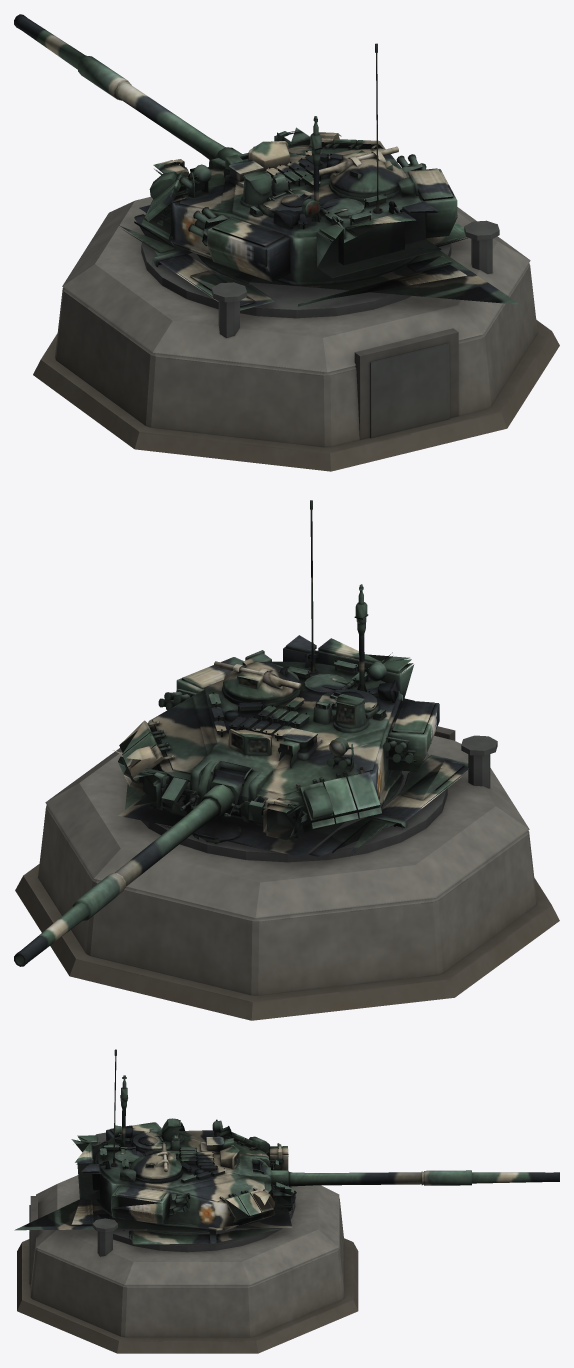
The model's file is gun.glb.
3 renders of one model, top to bottom at view 1: azimuth 30°, elevation 25°; view 2: azimuth 150°, elevation 25°; view 3: azimuth 270°, elevation 25°, orthographic. The views are drawn at different scales.
Parts seen in each view (by area): view 1: hull, turret, barrel; view 2: hull, turret, barrel; view 3: hull, turret, barrel.
Part boxes in pixels (box(x1,y1,x2,y2)): hull: box(33, 196, 559, 471); turret: box(119, 43, 520, 310); barrel: box(14, 14, 242, 167); hull: box(15, 726, 559, 1020); turret: box(113, 500, 469, 857); barrel: box(14, 782, 248, 966); hull: box(17, 1132, 358, 1353); turret: box(14, 1049, 296, 1244); barrel: box(271, 1169, 559, 1186).
Size of the model in its own units: 5.39 by 4.2 by 8.62.
1 material, 1 textured.
